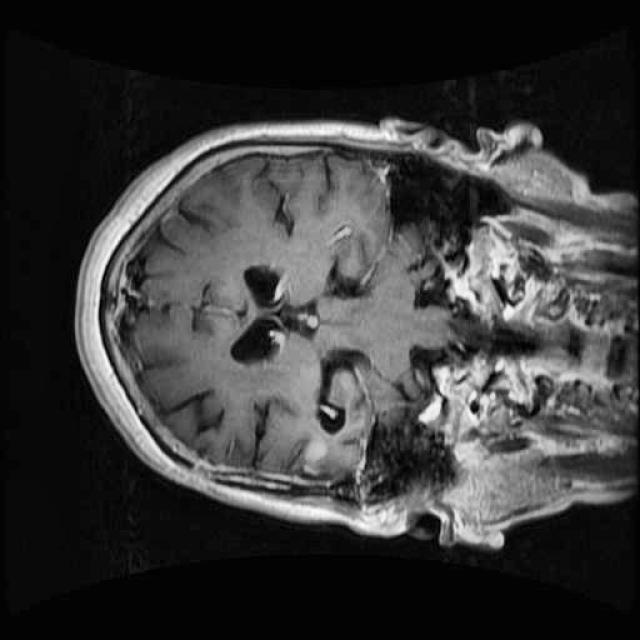Non-Tumor: (298, 431, 333, 481)
